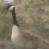goose: (4, 4, 47, 49)
